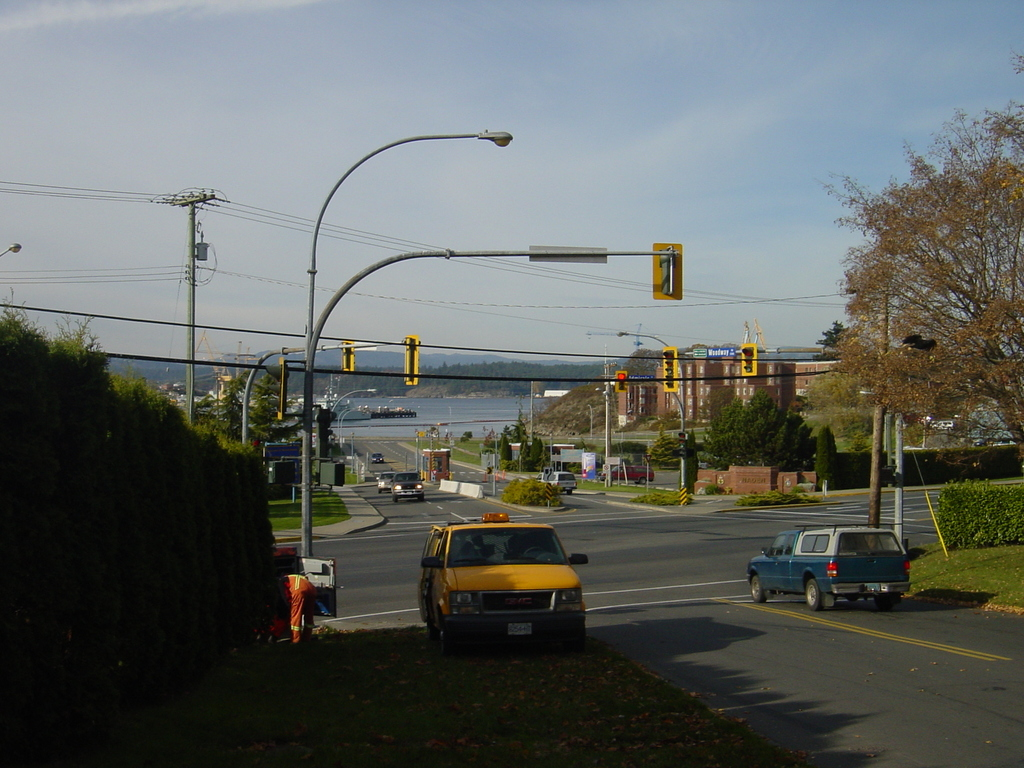red_light: (617, 371, 628, 381)
